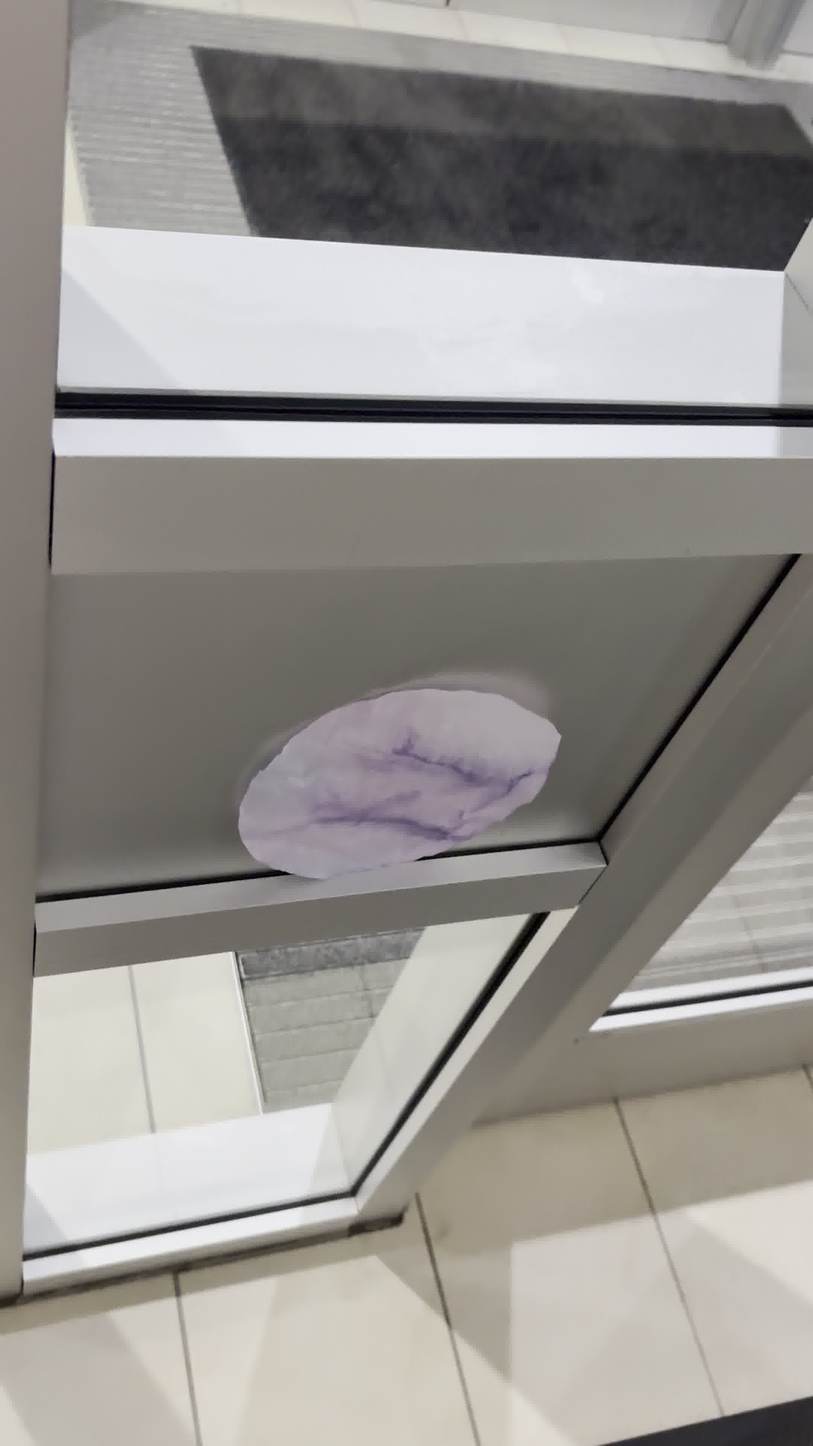Target: (234, 678, 565, 884)
